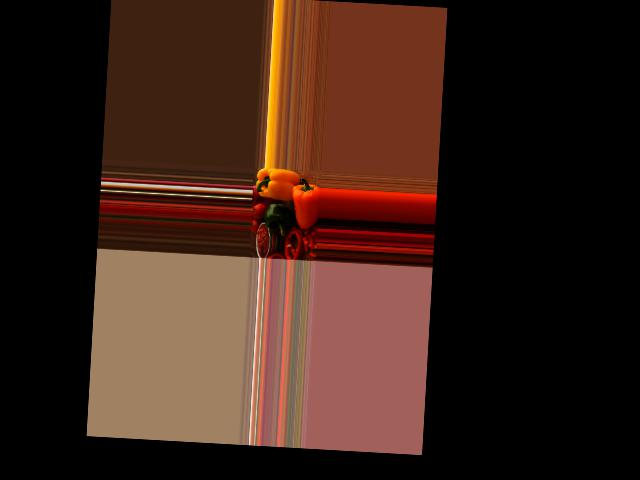bell_pepper: (255, 167, 292, 201)
